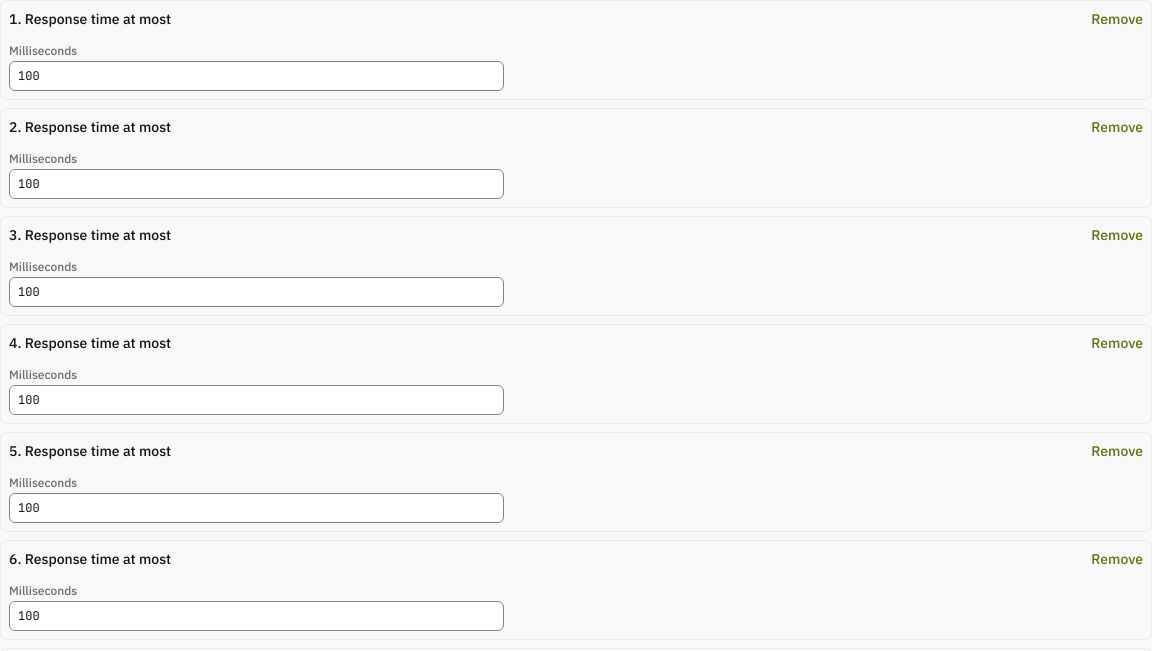
Test: CheckRows › removes a check and stops adding at ten
Click the button with aria-label "Remove check 1".
click(1117, 19)  # box [1091,9,1143,29]
(page scrolled)
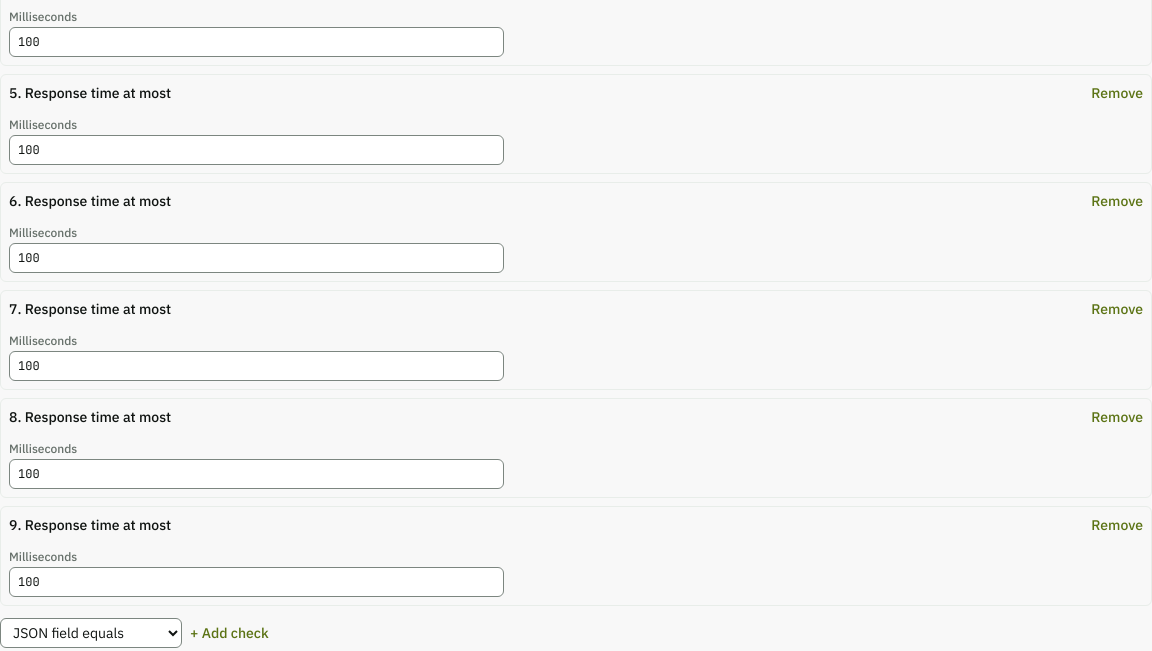
Result: the button "+ Add check" is enabled at [190,623,269,643]
